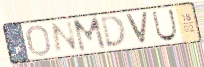D: (99, 14, 128, 49)
M: (71, 15, 109, 54)
N: (49, 19, 81, 57)
O: (25, 24, 54, 58)
U: (151, 8, 179, 43)
V: (124, 11, 150, 46)
